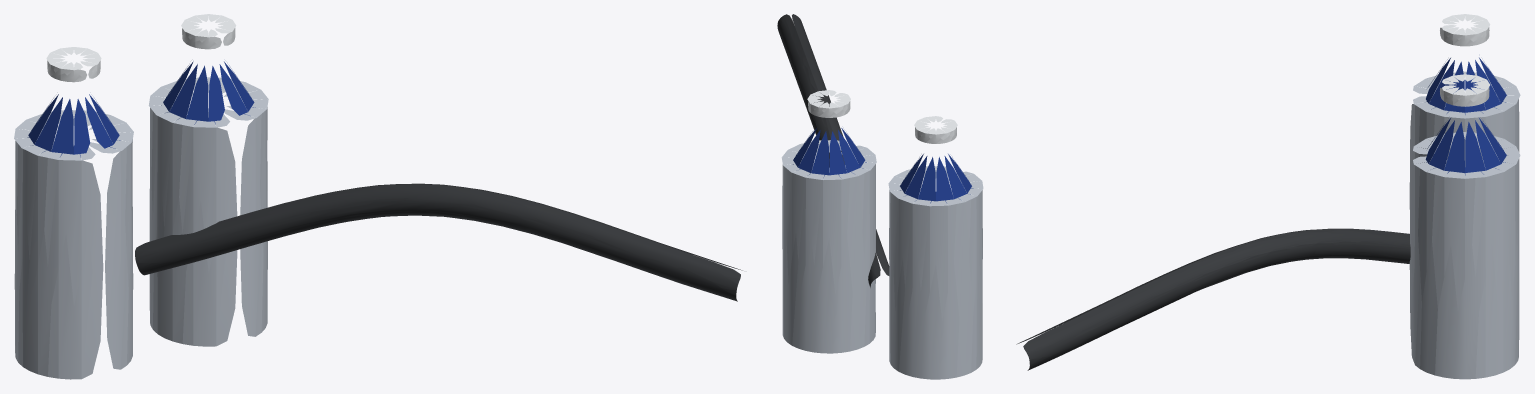
Rendered from oil_catch_tanks.glb.
3 views of the same model, side by side, from view 1: azimuth 30°, elevation 25°; view 2: azimuth 150°, elevation 25°; view 3: azimuth 270°, elevation 25° (orthographic). The views are drawn at different scales.
Visible parts, largest first — view 1: Catch_Tank_Breathers_Assembly; view 2: Catch_Tank_Breathers_Assembly; view 3: Catch_Tank_Breathers_Assembly.
Part boxes in pixels (left/top/right/bottom): Catch_Tank_Breathers_Assembly: left=14, top=14, right=742, bottom=379; Catch_Tank_Breathers_Assembly: left=777, top=14, right=983, bottom=379; Catch_Tank_Breathers_Assembly: left=1016, top=14, right=1520, bottom=379.
Size of the model in its own units: 0.3272 by 0.189 by 0.3205.
